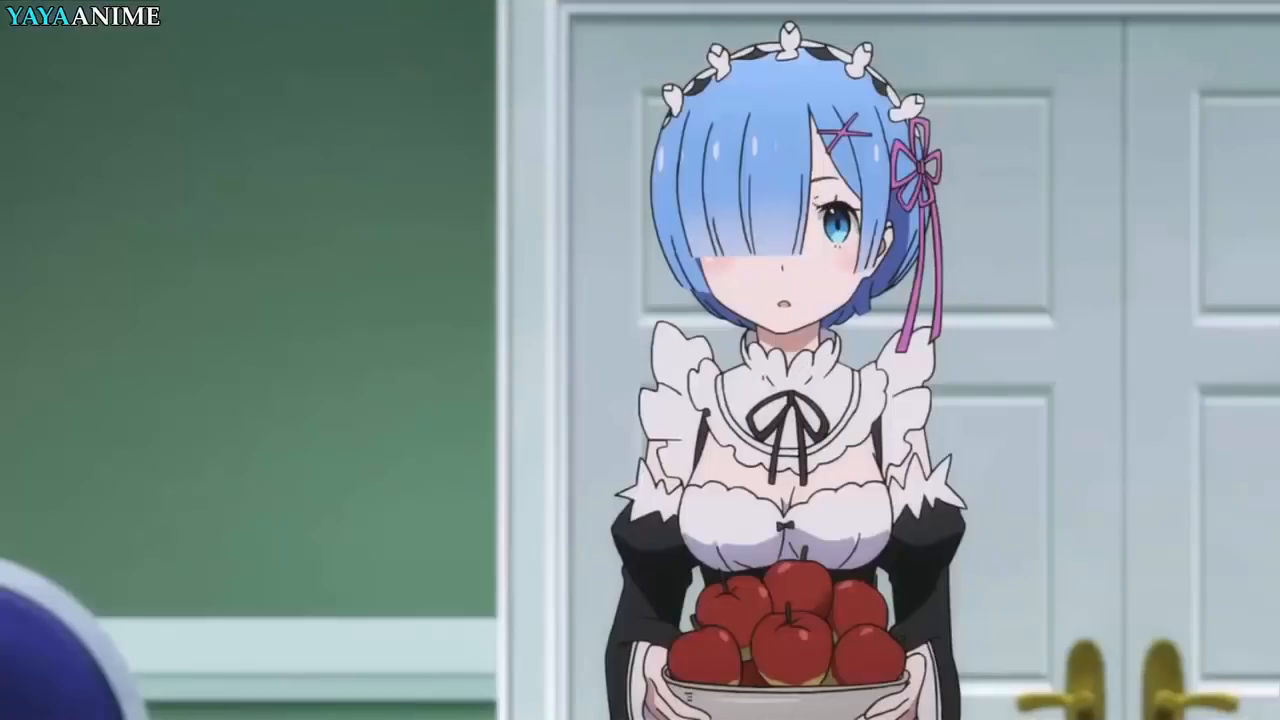REM: (647, 37, 937, 340)
